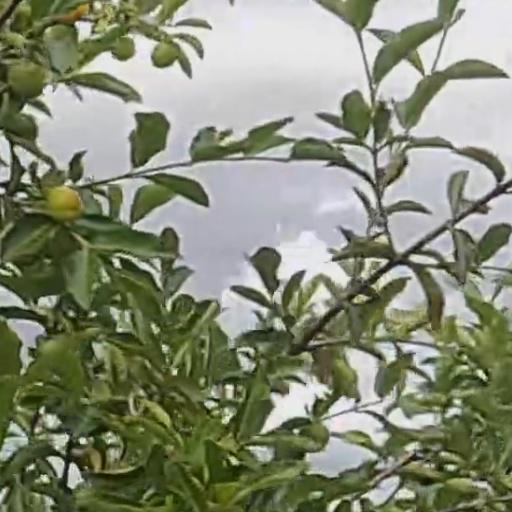acerola: (47, 186, 81, 220), (10, 65, 43, 99)
